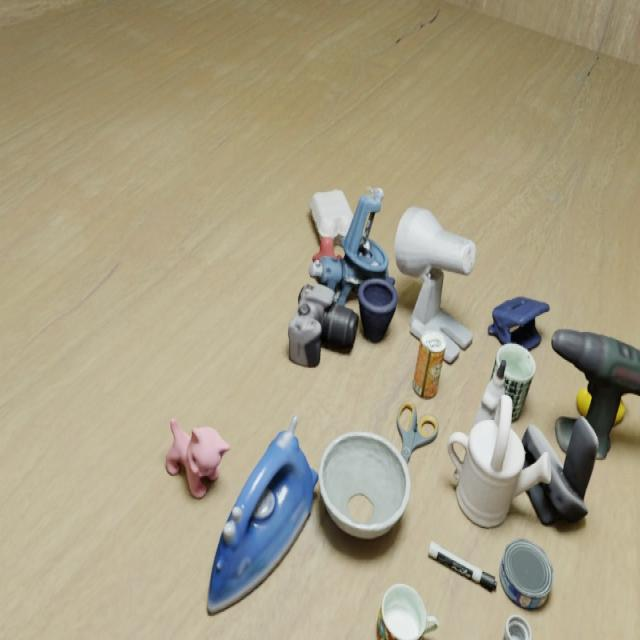Other Objects: (208, 417, 317, 612), (318, 432, 410, 539), (522, 417, 597, 524), (166, 420, 229, 497), (499, 539, 552, 609), (428, 541, 496, 591), (310, 189, 352, 260), (377, 584, 427, 639), (358, 277, 397, 341), (396, 403, 438, 461), (412, 331, 444, 397), (503, 615, 531, 639)
